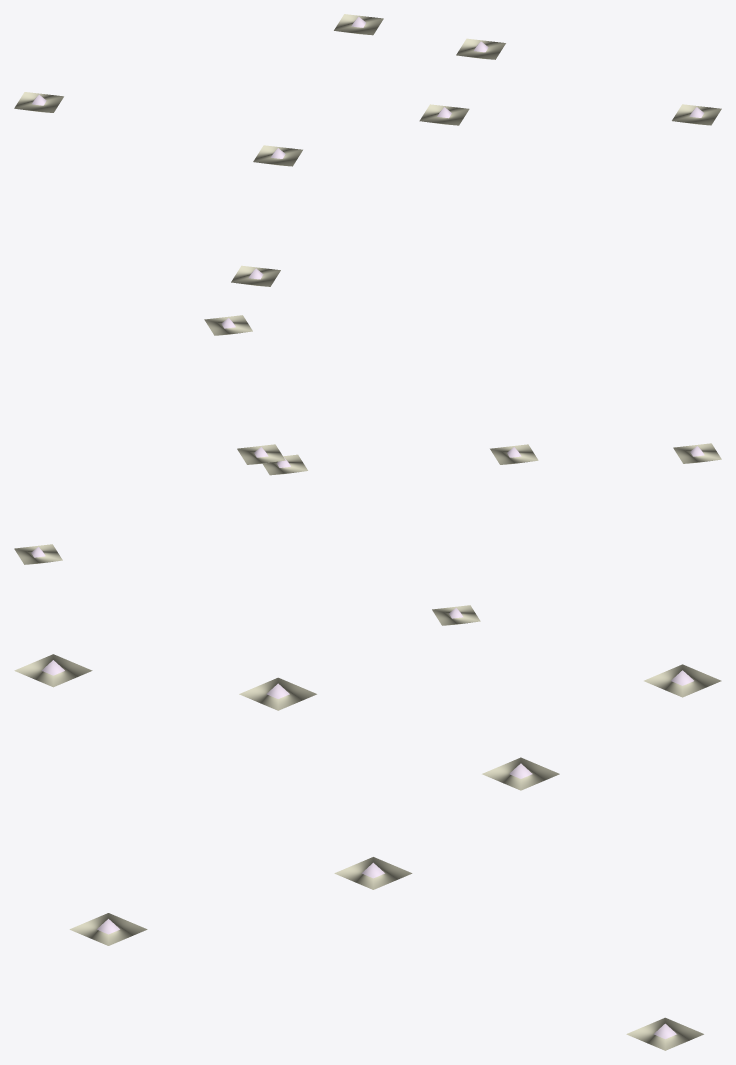
The picture shows the model from 3 angles, top to bottom: view 1: azimuth 30°, elevation 25°; view 2: azimuth 150°, elevation 25°; view 3: azimuth 270°, elevation 25°; orthographic projection. The views are drawn at different scales.
Parts seen in each view (by area): view 1: Object12; view 2: Object12; view 3: Object12.
Part boxes in pixels (bbox=[...]): Object12: bbox=[14, 14, 721, 286]; Object12: bbox=[14, 315, 721, 625]; Object12: bbox=[14, 654, 721, 1050].
Bounding box in the file's own units: 332 × 76.97 × 294.
